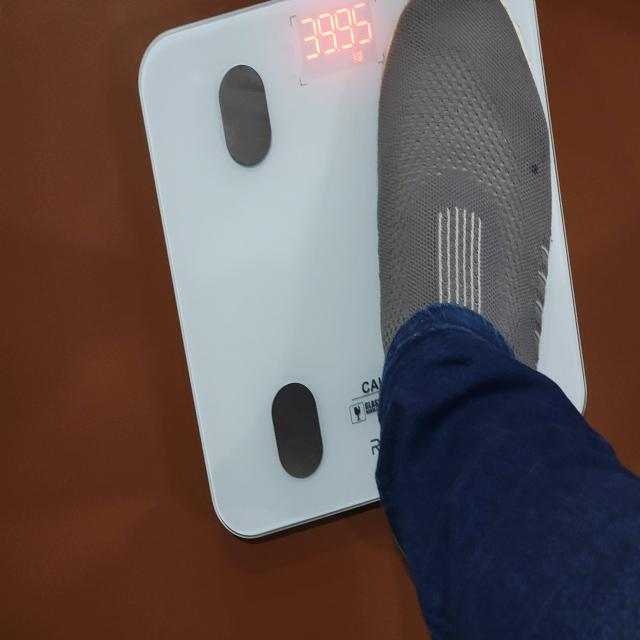ws: (137, 0, 415, 546)
